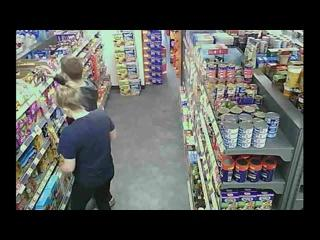shoplifting: (54, 83, 118, 211), (56, 56, 98, 111)
